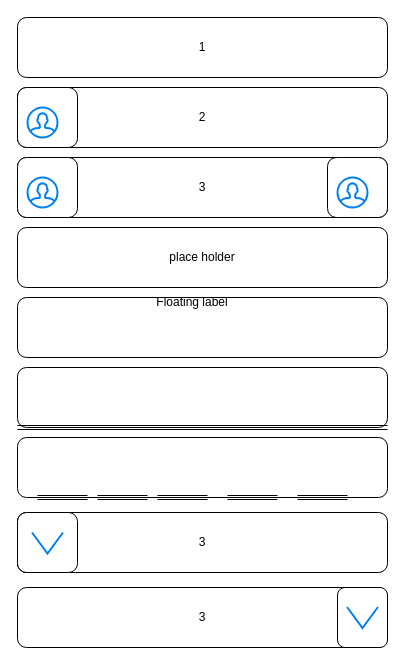
This 405x665 diagram has some shape labels left out. Each missing label, with the centre of its shape:
progress input: (202,467)
standard matihoko boarder off: (202,397)
